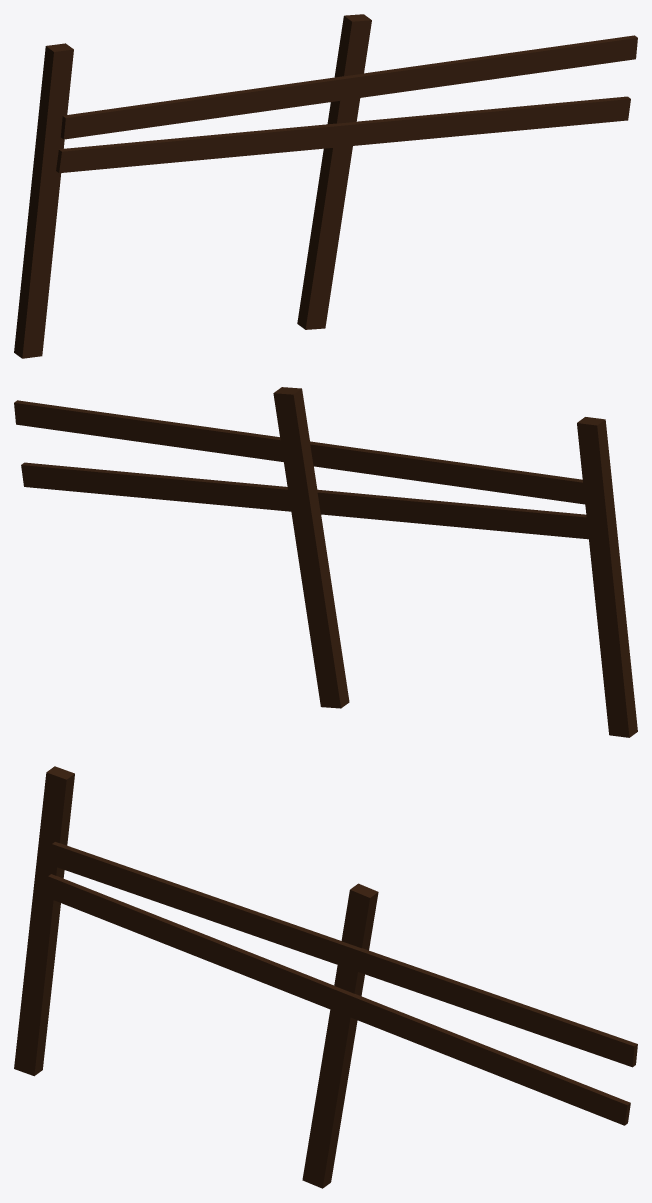
Rendered from fence01.fbx.
The picture shows the model from 3 angles, top to bottom: view 1: azimuth 30°, elevation 25°; view 2: azimuth 150°, elevation 25°; view 3: azimuth 330°, elevation 25°; orthographic projection.
Parts seen in each view (by area): view 1: Box003; view 2: Box003; view 3: Box003.
Boxes of the visible parts, x1=… form: Box003: x1=14, y1=14, x2=637, y2=358; Box003: x1=14, y1=387, x2=637, y2=737; Box003: x1=14, y1=766, x2=637, y2=1188.
Bounding box in the file's own units: 2.41 × 1.29 × 0.0775.
